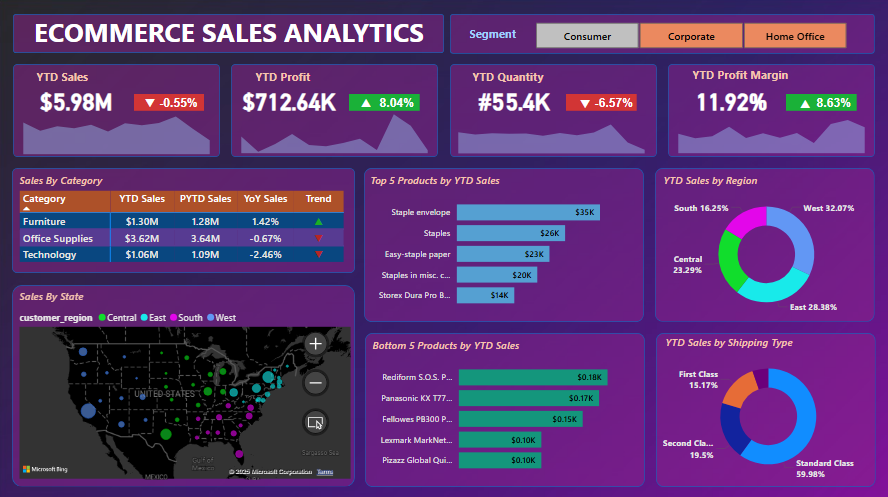

Layout of this report page (visuals, bound fields, positions):
{"tool":"powerbi","page":{"name":"Page 1","canvas":[1280,720],"ordinal":0},"visuals":[{"type":"shape","box":[24.3,20,615.7,55.7],"z":0},{"type":"shape","box":[943.3,475,313.8,220],"z":1000},{"type":"textbox","box":[31.4,14.3,602.9,61.4],"z":2000},{"type":"shape","box":[24.3,91.4,295.7,132.9],"z":2000,"group":"g1"},{"type":"card","fields":{"Values":["ecommerce_data.YTD Sales"]},"box":[31.4,112.8,165.7,61.4],"z":3000,"group":"g1"},{"type":"donutChart","title":"YTD Sales by Shipping Type","fields":{"Y":["ecommerce_data.YTD Sales"],"Category":["ecommerce_data.shipping_type"]},"box":[950.8,478.8,303.8,212.5],"z":3000},{"type":"shape","box":[197.2,134.3,100,24.3],"z":4000,"group":"g1"},{"type":"shape","box":[23.5,240.2,490,150],"z":4000},{"type":"areaChart","fields":{"Category":["Calendar.Month"],"Y":["Sum(ecommerce_data.sales_per_order)"]},"box":[24.3,147.1,295.7,78.6],"z":5000,"group":"g1"},{"type":"shape","box":[23.3,406.7,490,288.3],"z":5000},{"type":"card","fields":{"Values":["ecommerce_data.YoY Sales"]},"box":[220,134.3,81.4,27.1],"z":6000,"group":"g1"},{"type":"pivotTable","title":"Sales By Category","fields":{"Rows":["ecommerce_data.category_name"],"Values":["ecommerce_data.YTD Sales","ecommerce_data.PYTD Sales","ecommerce_data.YoY Sales","ecommerce_data.Sales Icon"]},"box":[28.6,246.9,477.1,136.1],"z":6000},{"type":"card","fields":{"Values":["ecommerce_data.Sales Icon"]},"box":[198.6,134.3,42.9,27.1],"z":7000,"group":"g1"},{"type":"map","title":"Sales By State","fields":{"Y":["us_state_long_lat_codes.latitude"],"X":["us_state_long_lat_codes.longitude"],"Size":["ecommerce_data.YTD Sales"],"Series":["ecommerce_data.customer_region"]},"box":[28.3,413.3,483.3,276.7],"z":7000},{"type":"shape","box":[648.3,20,606.7,56.7],"z":8000},{"type":"textbox","box":[52.9,94.3,100,32.9],"z":8000,"group":"g1"},{"type":"group","id":"g1","title":"Group 1","box":[24.3,91.4,295.7,134.3],"z":9000},{"type":"shape","box":[335.6,91.7,295.7,132.9],"z":9000,"group":"g2"},{"type":"group","id":"g2","title":"Group 2","box":[335.6,91.7,295,133.3],"z":10000},{"type":"shape","box":[648.6,91.7,295.7,132.9],"z":10000,"group":"g3"},{"type":"textbox","box":[671.7,33.3,100,31.7],"z":11000},{"type":"shape","box":[960,91.7,295.7,132.9],"z":11000,"group":"g4"},{"type":"group","id":"g3","title":"Group 3","box":[646.1,91.7,298.3,133.3],"z":12000},{"type":"card","fields":{"Values":["ecommerce_data.YTD Profit"]},"box":[335.6,113.1,165.7,61.4],"z":12000,"group":"g2"},{"type":"group","id":"g4","title":"Group 4","box":[960,91.7,295.7,132.9],"z":13000},{"type":"card","fields":{"Values":["ecommerce_data.YTD Qty Concatenated"]},"box":[657.9,113.5,166.3,60.5],"z":13000,"group":"g3"},{"type":"slicer","fields":{"Values":["ecommerce_data.customer_segment"]},"box":[745,25,493.3,50],"z":14000},{"type":"card","fields":{"Values":["ecommerce_data.YTD Profit Margin"]},"box":[966.7,113.5,166.3,60.5],"z":14000,"group":"g4"},{"type":"shape","box":[504.6,134.7,100.8,23.5],"z":15000,"group":"g2"},{"type":"shape","box":[525,240,399.8,220.1],"z":15000},{"type":"shape","box":[815.1,134.7,100.8,23.5],"z":16000,"group":"g3"},{"type":"shape","box":[526.7,475,399.8,220.1],"z":16000},{"type":"shape","box":[1129,134.7,100.8,23.5],"z":17000,"group":"g4"},{"type":"barChart","title":"Top 5 Products by YTD Sales","fields":{"Category":["ecommerce_data.product_name"],"Y":["ecommerce_data.YTD Sales"]},"box":[529.9,247,386,203.9],"z":17000},{"type":"areaChart","fields":{"Category":["Calendar.Month"],"Y":["Sum(ecommerce_data.profit_per_order)"]},"box":[335.6,146,295.7,78.6],"z":18000,"group":"g2"},{"type":"barChart","title":"Bottom 5 Products by YTD Sales","fields":{"Category":["ecommerce_data.product_name"],"Y":["ecommerce_data.YTD Sales"]},"box":[533,482.8,386,203.9],"z":18000},{"type":"areaChart","fields":{"Category":["Calendar.Month"],"Y":["Sum(ecommerce_data.order_quantity)"]},"box":[646.1,145.5,295.6,79],"z":19000,"group":"g3"},{"type":"shape","box":[941.7,240,313.7,219.8],"z":19000},{"type":"areaChart","fields":{"Category":["Calendar.Month"],"Y":["ecommerce_data.Profit Margin"]},"box":[960,146,295.7,78.6],"z":20000,"group":"g4"},{"type":"donutChart","title":"YTD Sales by Region","fields":{"Category":["ecommerce_data.customer_region"],"Y":["ecommerce_data.YTD Sales"]},"box":[949.1,247.5,303.8,212.5],"z":20000},{"type":"card","fields":{"Values":["ecommerce_data.YoY Profit"]},"box":[531.5,134.7,82.3,26.9],"z":21000,"group":"g2"},{"type":"card","fields":{"Values":["ecommerce_data.YoY Qty"]},"box":[842,134.7,82.3,26.9],"z":22000,"group":"g3"},{"type":"card","fields":{"Values":["ecommerce_data.YoY Profit Margin"]},"box":[1155.9,134.7,82.3,26.9],"z":23000,"group":"g4"},{"type":"card","fields":{"Values":["ecommerce_data.Profit Icon"]},"box":[507,134.6,42.9,27.1],"z":24000,"group":"g2"},{"type":"card","fields":{"Values":["ecommerce_data.Qty Icon"]},"box":[820.8,135.4,43.7,26.9],"z":25000,"group":"g3"},{"type":"card","fields":{"Values":["ecommerce_data.Profit Margin Icon"]},"box":[1134.7,135.4,43.7,26.9],"z":26000,"group":"g4"},{"type":"textbox","box":[365.6,94.6,100,32.9],"z":27000,"group":"g2"},{"type":"textbox","box":[676.3,95.1,136.1,31.9],"z":28000,"group":"g3"},{"type":"textbox","box":[990.2,91.7,162.9,35.3],"z":29000,"group":"g4"}]}

Visuals, with their boxes in screenshot pixels (x1, y1, x2, y2), scaled from the page's 1280x720 canvas onto the 888x497 screenshot:
shape: [x1=17, y1=14, x2=444, y2=52]
shape: [x1=654, y1=328, x2=872, y2=480]
textbox: [x1=22, y1=10, x2=440, y2=52]
shape: [x1=17, y1=63, x2=222, y2=155]
card - ecommerce_data.YTD Sales: [x1=22, y1=78, x2=137, y2=120]
"YTD Sales by Shipping Type" donutChart: [x1=660, y1=331, x2=870, y2=477]
shape: [x1=137, y1=93, x2=206, y2=109]
shape: [x1=16, y1=166, x2=356, y2=269]
areaChart - Calendar.Month x Sum(ecommerce_data.sales_per_order): [x1=17, y1=102, x2=222, y2=156]
shape: [x1=16, y1=281, x2=356, y2=480]
card - ecommerce_data.YoY Sales: [x1=153, y1=93, x2=209, y2=111]
"Sales By Category" pivotTable: [x1=20, y1=170, x2=351, y2=264]
card - ecommerce_data.Sales Icon: [x1=138, y1=93, x2=168, y2=111]
"Sales By State" map: [x1=20, y1=285, x2=355, y2=476]
shape: [x1=450, y1=14, x2=871, y2=53]
textbox: [x1=37, y1=65, x2=106, y2=88]
"Group 1" group: [x1=17, y1=63, x2=222, y2=156]
shape: [x1=233, y1=63, x2=438, y2=155]
"Group 2" group: [x1=233, y1=63, x2=437, y2=155]
shape: [x1=450, y1=63, x2=655, y2=155]
textbox: [x1=466, y1=23, x2=535, y2=45]
shape: [x1=666, y1=63, x2=871, y2=155]
"Group 3" group: [x1=448, y1=63, x2=655, y2=155]
card - ecommerce_data.YTD Profit: [x1=233, y1=78, x2=348, y2=120]
"Group 4" group: [x1=666, y1=63, x2=871, y2=155]
card - ecommerce_data.YTD Qty Concatenated: [x1=456, y1=78, x2=572, y2=120]
slicer - ecommerce_data.customer_segment: [x1=517, y1=17, x2=859, y2=52]
card - ecommerce_data.YTD Profit Margin: [x1=671, y1=78, x2=786, y2=120]
shape: [x1=350, y1=93, x2=420, y2=109]
shape: [x1=364, y1=166, x2=642, y2=318]
shape: [x1=565, y1=93, x2=635, y2=109]
shape: [x1=365, y1=328, x2=643, y2=480]
shape: [x1=783, y1=93, x2=853, y2=109]
"Top 5 Products by YTD Sales" barChart: [x1=368, y1=170, x2=635, y2=311]
areaChart - Calendar.Month x Sum(ecommerce_data.profit_per_order): [x1=233, y1=101, x2=438, y2=155]
"Bottom 5 Products by YTD Sales" barChart: [x1=370, y1=333, x2=638, y2=474]
areaChart - Calendar.Month x Sum(ecommerce_data.order_quantity): [x1=448, y1=100, x2=653, y2=155]
shape: [x1=653, y1=166, x2=871, y2=317]
areaChart - Calendar.Month x ecommerce_data.Profit Margin: [x1=666, y1=101, x2=871, y2=155]
"YTD Sales by Region" donutChart: [x1=658, y1=171, x2=869, y2=318]
card - ecommerce_data.YoY Profit: [x1=369, y1=93, x2=426, y2=112]
card - ecommerce_data.YoY Qty: [x1=584, y1=93, x2=641, y2=112]
card - ecommerce_data.YoY Profit Margin: [x1=802, y1=93, x2=859, y2=112]
card - ecommerce_data.Profit Icon: [x1=352, y1=93, x2=381, y2=112]
card - ecommerce_data.Qty Icon: [x1=569, y1=93, x2=600, y2=112]
card - ecommerce_data.Profit Margin Icon: [x1=787, y1=93, x2=818, y2=112]
textbox: [x1=254, y1=65, x2=323, y2=88]
textbox: [x1=469, y1=66, x2=564, y2=88]
textbox: [x1=687, y1=63, x2=800, y2=88]
